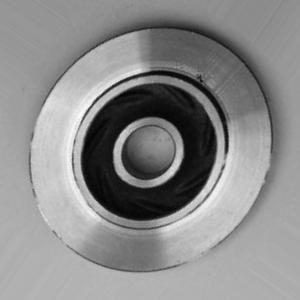defect: (181, 57, 219, 96)
